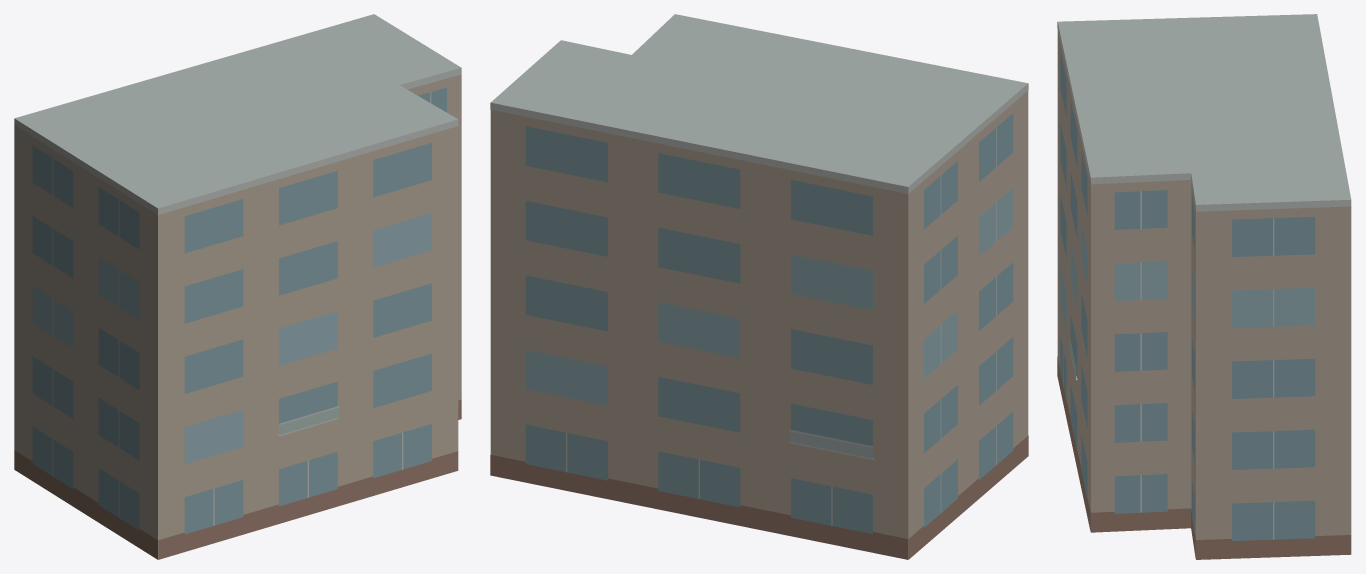
File: survey-upis-32873216.glb
3 views of the same model, side by side, from view 1: azimuth 30°, elevation 25°; view 2: azimuth 150°, elevation 25°; view 3: azimuth 270°, elevation 25° (orthographic). The views are drawn at different scales.
Parts seen in each view (by area): view 1: survey-upis-32873216.tmp; view 2: survey-upis-32873216.tmp; view 3: survey-upis-32873216.tmp.
Boxes of the visible parts, x1,y1,x2,y2 form: survey-upis-32873216.tmp: [14, 14, 461, 559]; survey-upis-32873216.tmp: [490, 14, 1028, 559]; survey-upis-32873216.tmp: [1057, 14, 1351, 559].
Bounding box in the file's own units: 15.01 × 13 × 9.76.
